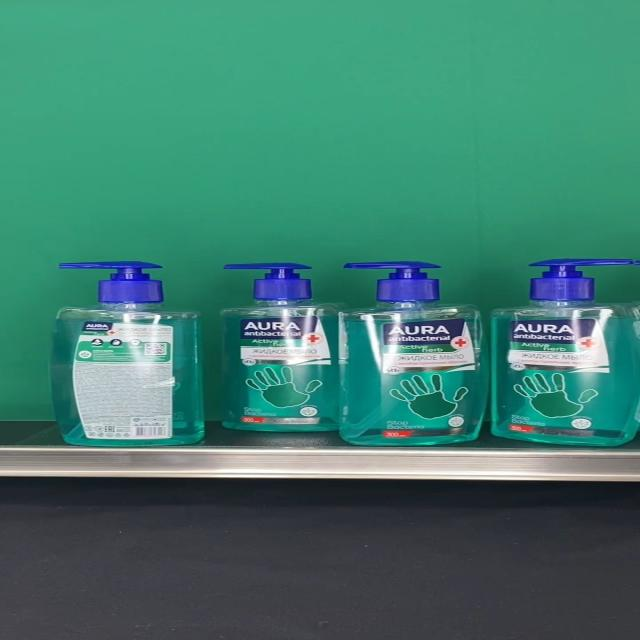Bottle: (49, 262, 205, 446), (489, 258, 640, 447), (337, 262, 489, 446), (217, 262, 350, 431)
Cap: (527, 258, 640, 300), (56, 261, 164, 301), (341, 262, 443, 300), (223, 262, 314, 298)
